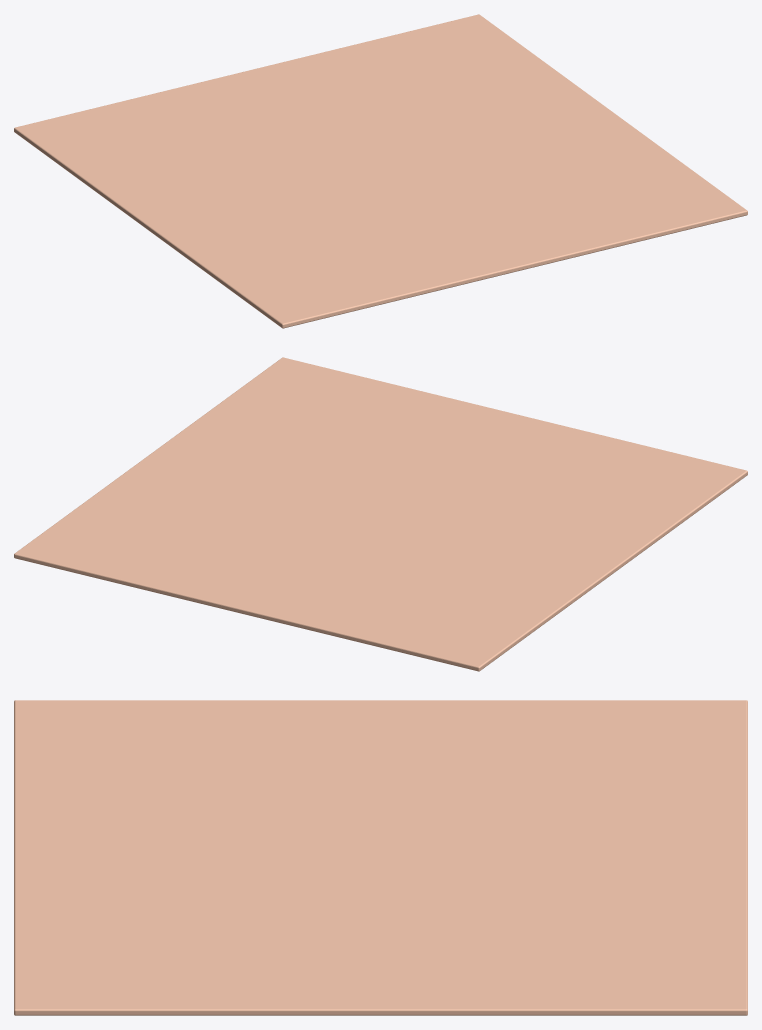
File: Carpet.glb
3 renders of one model, top to bottom at view 1: azimuth 30°, elevation 25°; view 2: azimuth 150°, elevation 25°; view 3: azimuth 270°, elevation 25°, orthographic. The views are drawn at different scales.
Visible parts, largest first — view 1: Plane; view 2: Plane; view 3: Plane.
Boxes of the visible parts, box(x1,y1,x2,y2) form: Plane: box(14, 14, 747, 328); Plane: box(14, 357, 747, 671); Plane: box(14, 700, 747, 1015).
Size of the model in its own units: 2 by 0.02 by 2.
